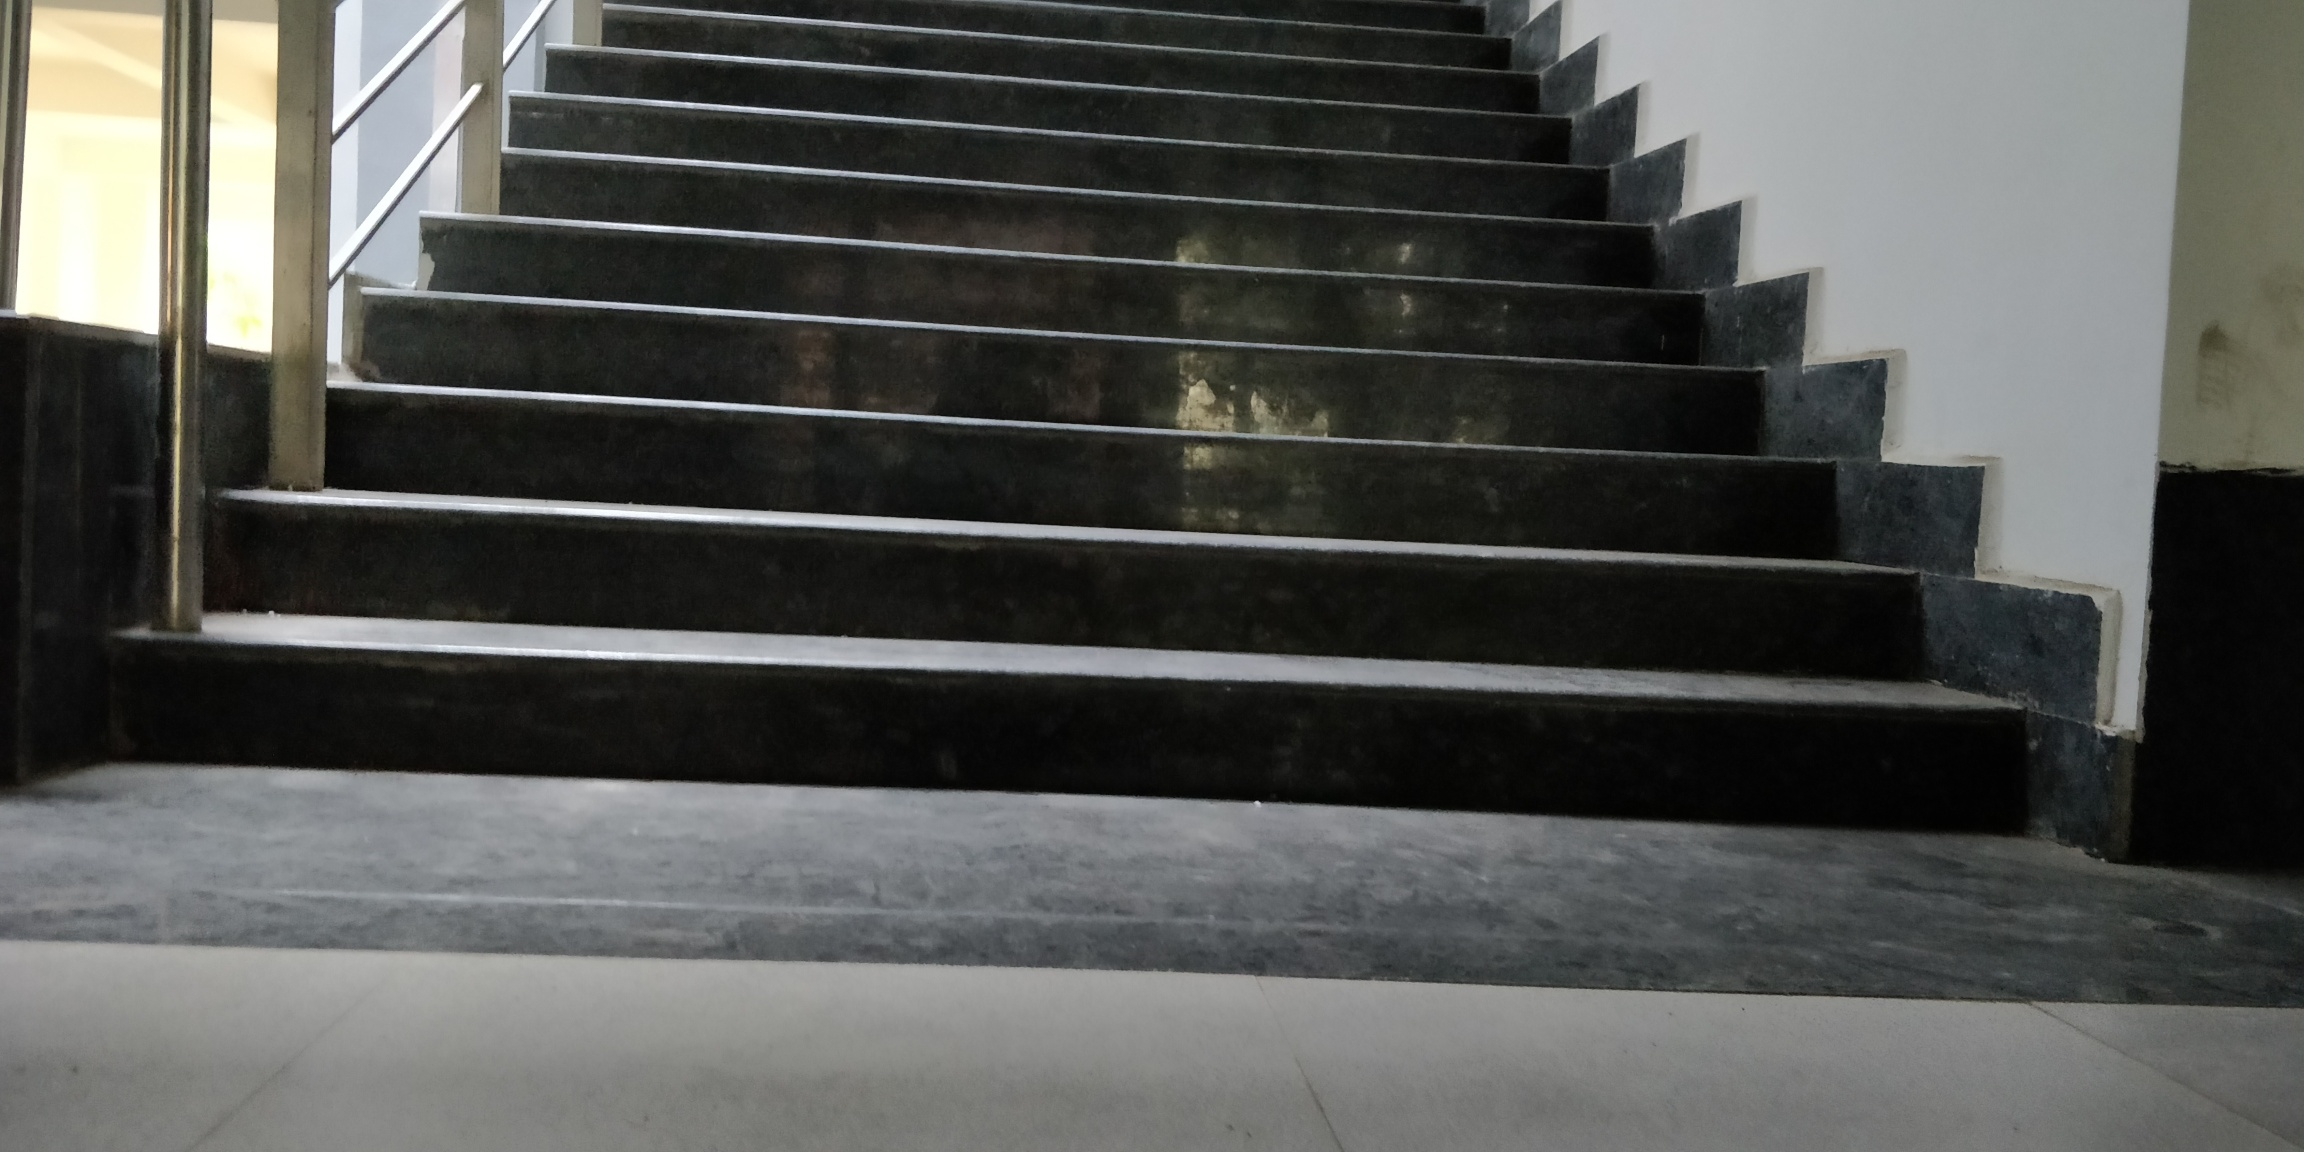stairs_up: (278, 7, 2006, 867)
